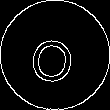O_N: (30, 26, 80, 84)
